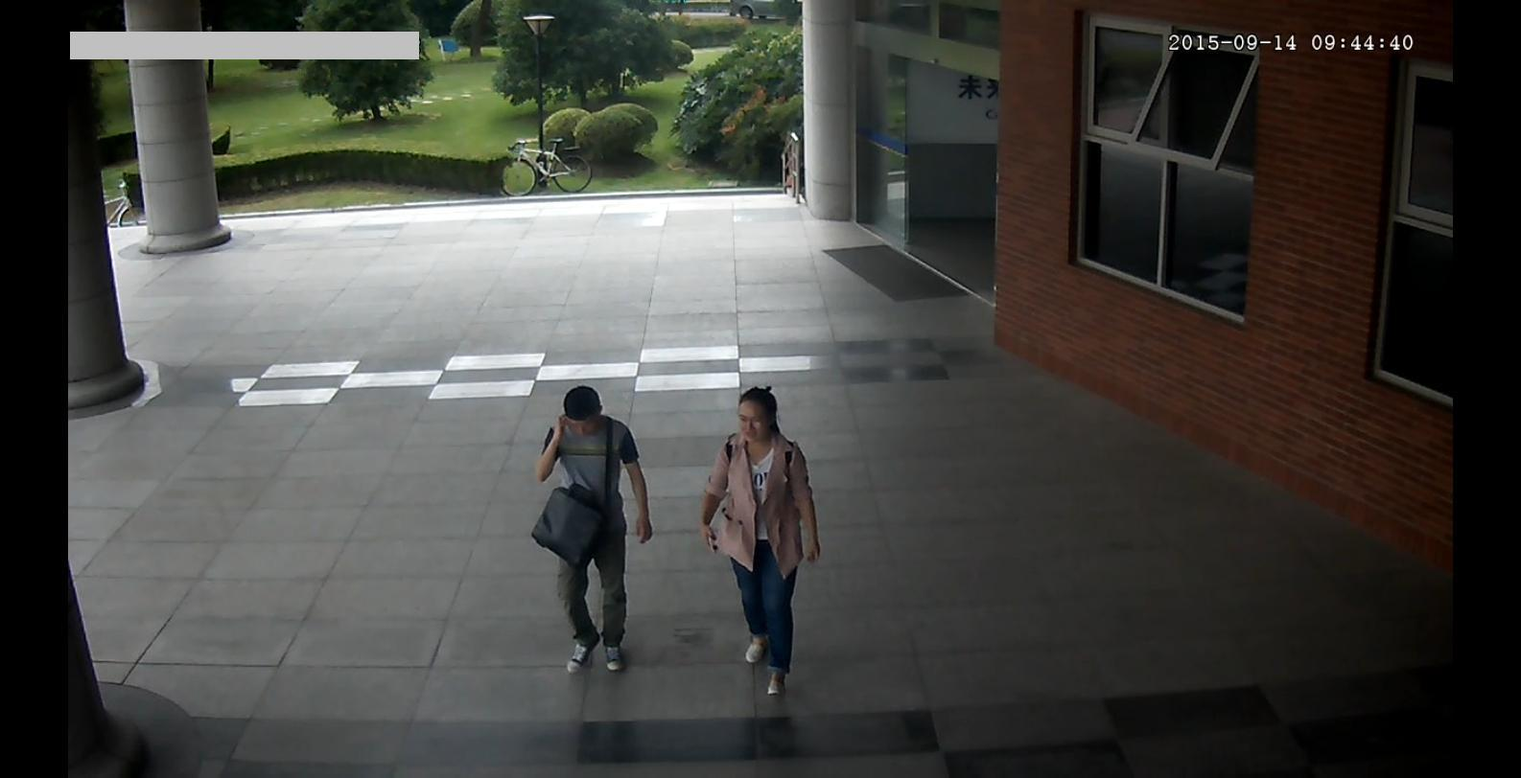person: (692, 385, 828, 700), (533, 383, 658, 676)
